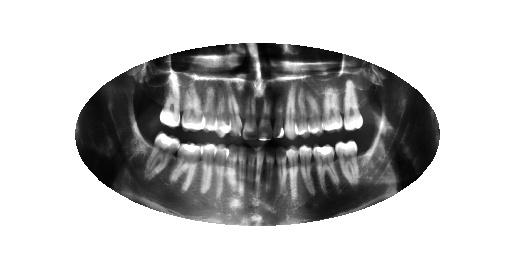13healthy: (174, 74, 207, 138)
14healthy: (168, 133, 203, 197)
i10healthy: (236, 143, 248, 206)
i11healthy: (223, 143, 240, 205)
i12healthy: (212, 142, 230, 209)
i13healthy: (197, 140, 219, 199)
i15healthy: (136, 129, 182, 187)
i2healthy: (330, 136, 364, 190)
i3healthy: (308, 136, 345, 200)
i4healthy: (295, 140, 320, 204)
i5healthy: (282, 139, 303, 212)
i6decay: (274, 143, 288, 211)
i7decay: (260, 143, 278, 203)
i8healthy: (253, 147, 266, 207)
i9decay: (244, 145, 258, 207)
u10chipped: (220, 78, 244, 141)
u11healthy: (212, 85, 233, 144)
u12healthy: (200, 73, 222, 134)
u14healthy: (156, 69, 184, 131)
u2healthy: (336, 73, 368, 136)
u3healthy: (317, 77, 343, 136)
u4healthy: (303, 84, 323, 139)
u5healthy: (288, 78, 312, 140)
u6healthy: (281, 74, 301, 142)
u7decay: (270, 87, 289, 143)
u8decay: (252, 85, 274, 145)
u9decay: (238, 88, 258, 146)
